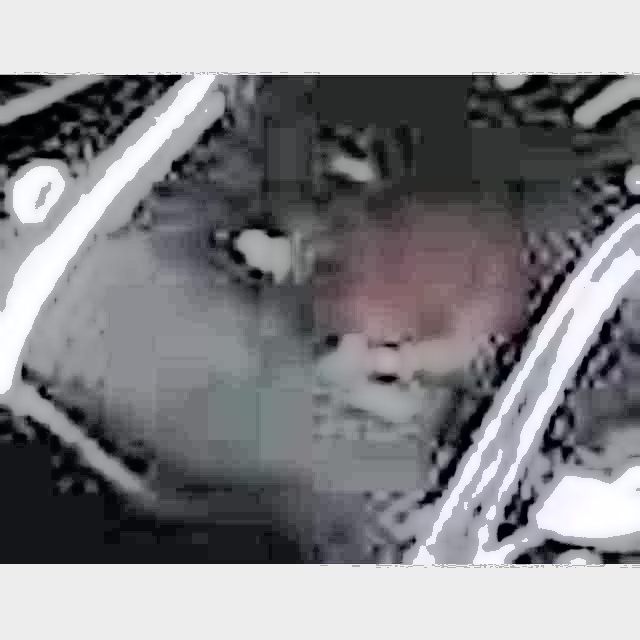tidak-pakai: (268, 160, 483, 434)
